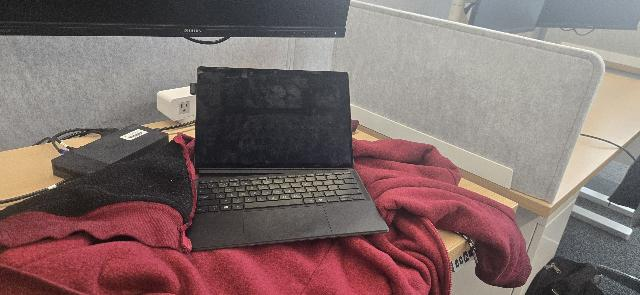Keyboard: (195, 171, 366, 213)
